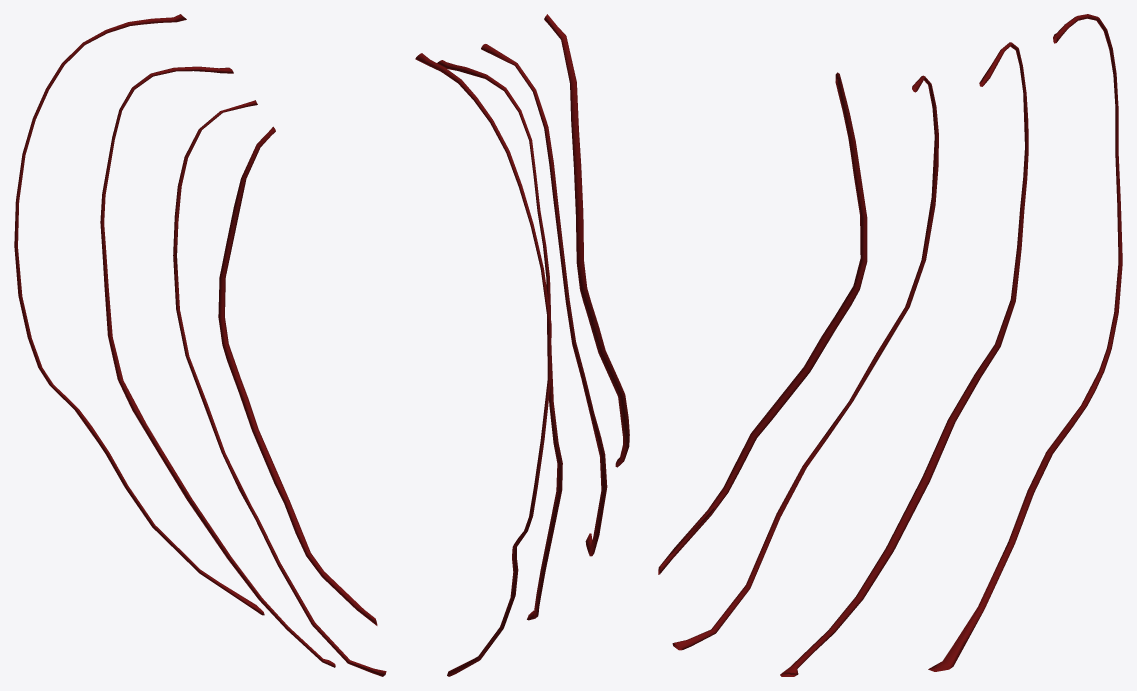
The model's file is R intercostales dorsales II-V.fbx.
The picture shows the model from 3 angles, left to right: view 1: azimuth 30°, elevation 25°; view 2: azimuth 150°, elevation 25°; view 3: azimuth 270°, elevation 25°; orthographic projection. The views are drawn at different scales.
Parts seen in each view (by area): view 1: R intercostales dorsales II-V, R intercostales dorsales II-V low; view 2: R intercostales dorsales II-V, R intercostales dorsales II-V low; view 3: R intercostales dorsales II-V, R intercostales dorsales II-V low.
Part boxes in pixels (box(x1,y1,x2,y2)): R intercostales dorsales II-V: box(14, 14, 386, 676); R intercostales dorsales II-V low: box(17, 14, 386, 674); R intercostales dorsales II-V: box(415, 14, 629, 676); R intercostales dorsales II-V low: box(417, 18, 628, 675); R intercostales dorsales II-V: box(658, 14, 1122, 676); R intercostales dorsales II-V low: box(658, 14, 1122, 676).
Size of the model in its own units: 9.76 by 31.31 by 21.
